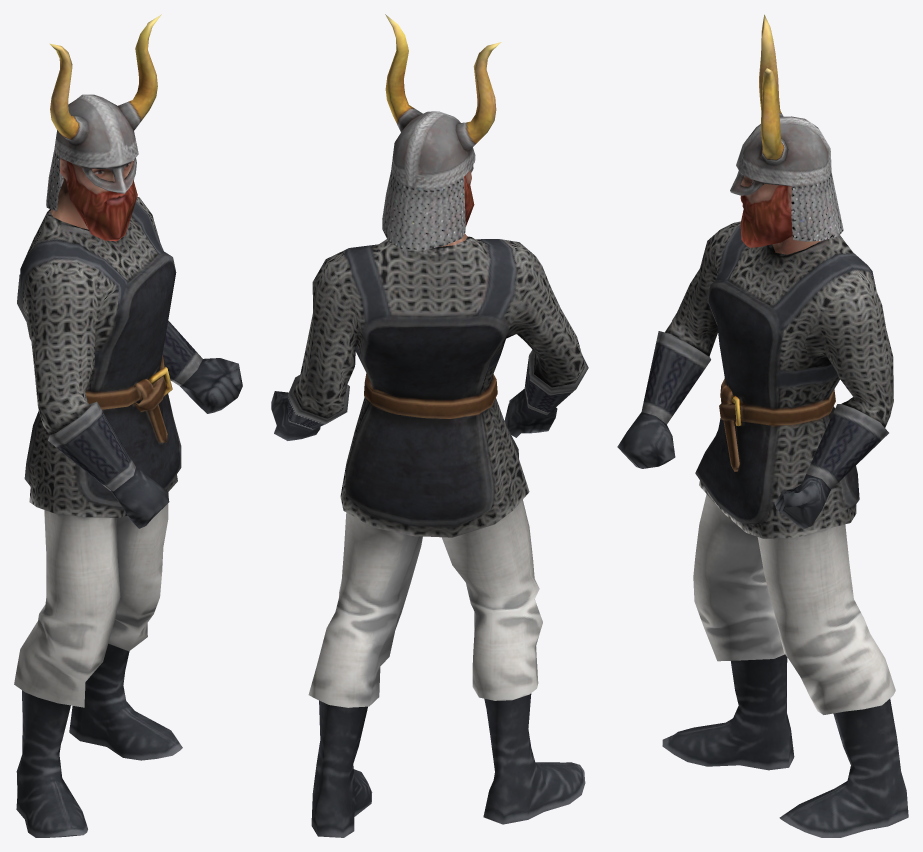
Rendered from body-base.glb.
3 views of the same model, side by side, from view 1: azimuth 30°, elevation 25°; view 2: azimuth 150°, elevation 25°; view 3: azimuth 270°, elevation 25° (orthographic). The views are drawn at different scales.
Size of the model in its own units: 0.9235 by 2.63 by 0.9209.
1 material, 1 textured.
